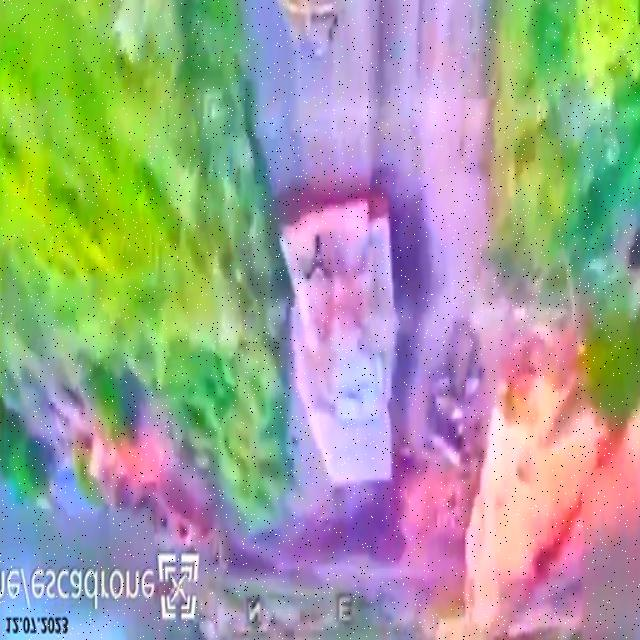APC-IFV: (276, 187, 405, 496)
